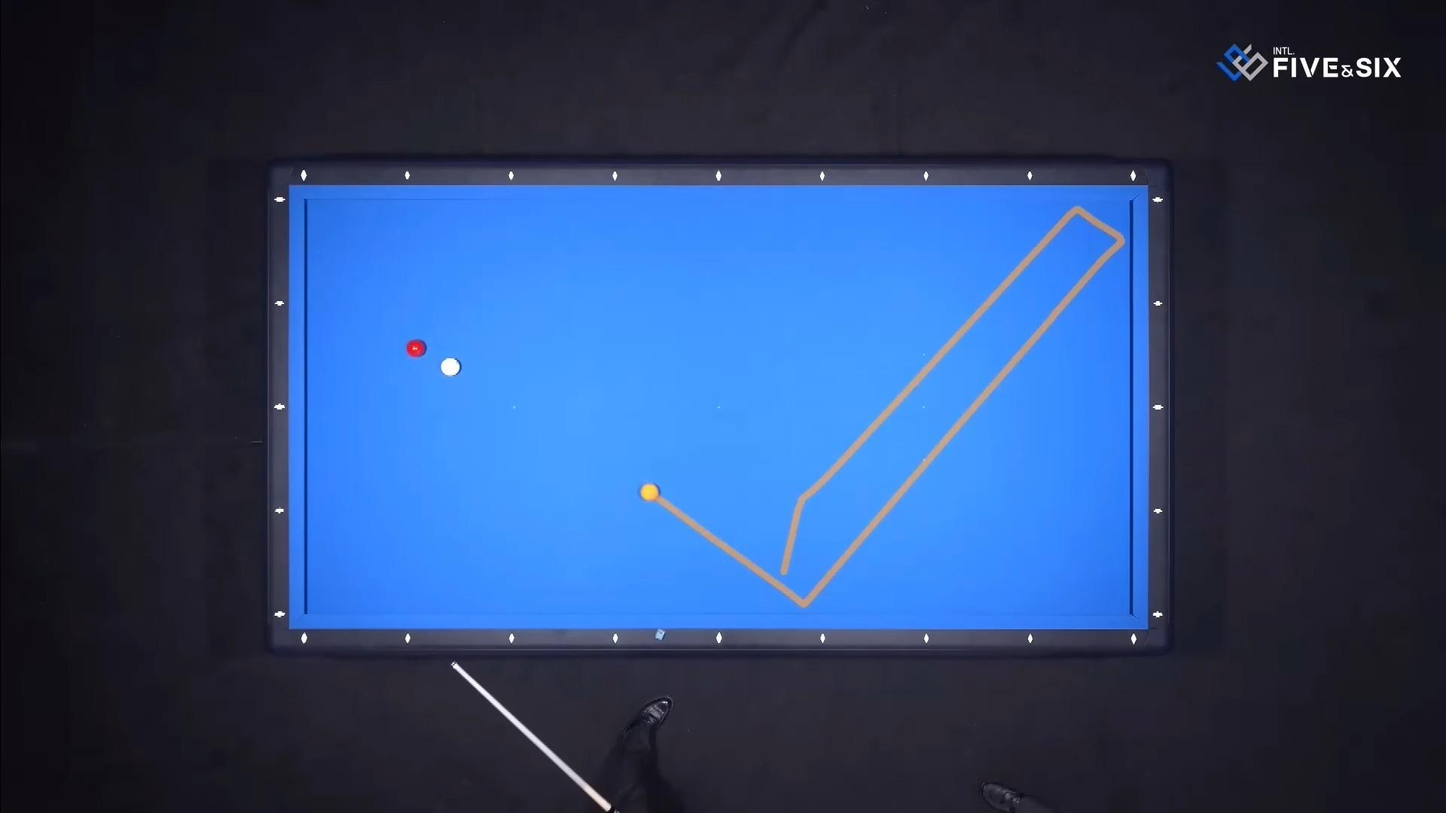Red: (403, 341, 426, 359)
White: (436, 357, 461, 377)
Yellow: (638, 484, 663, 503)
